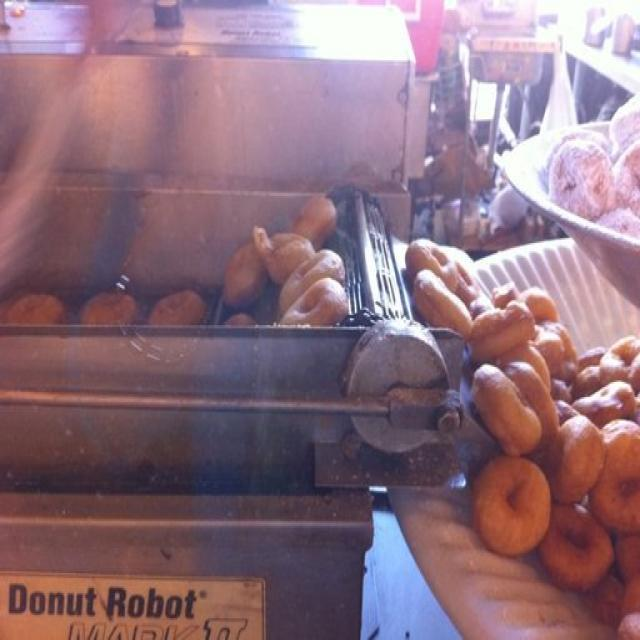Donuts: (7, 184, 640, 621)
